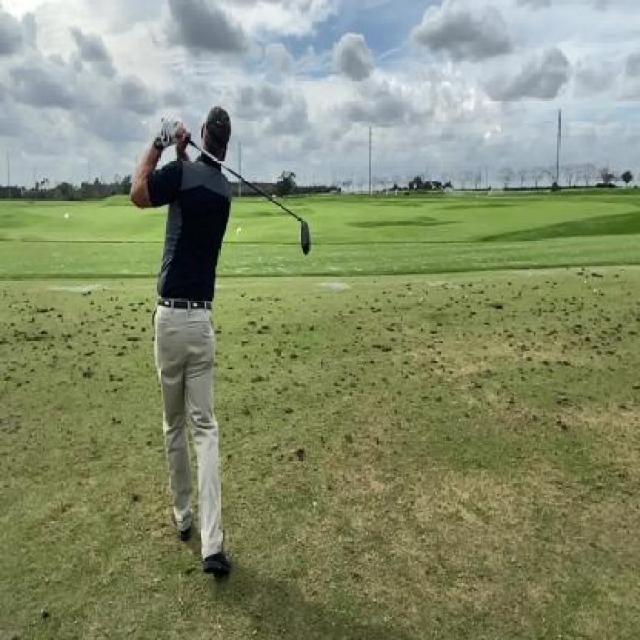club head: (294, 215, 311, 257)
